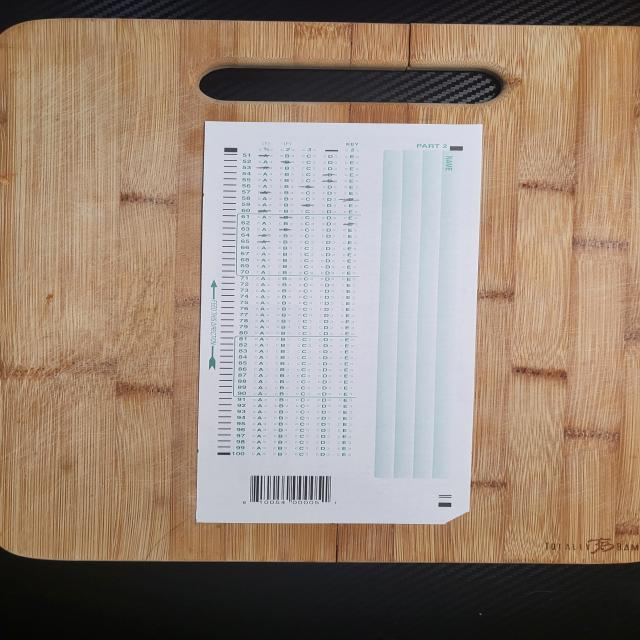scantron_back: (196, 121, 483, 525)
